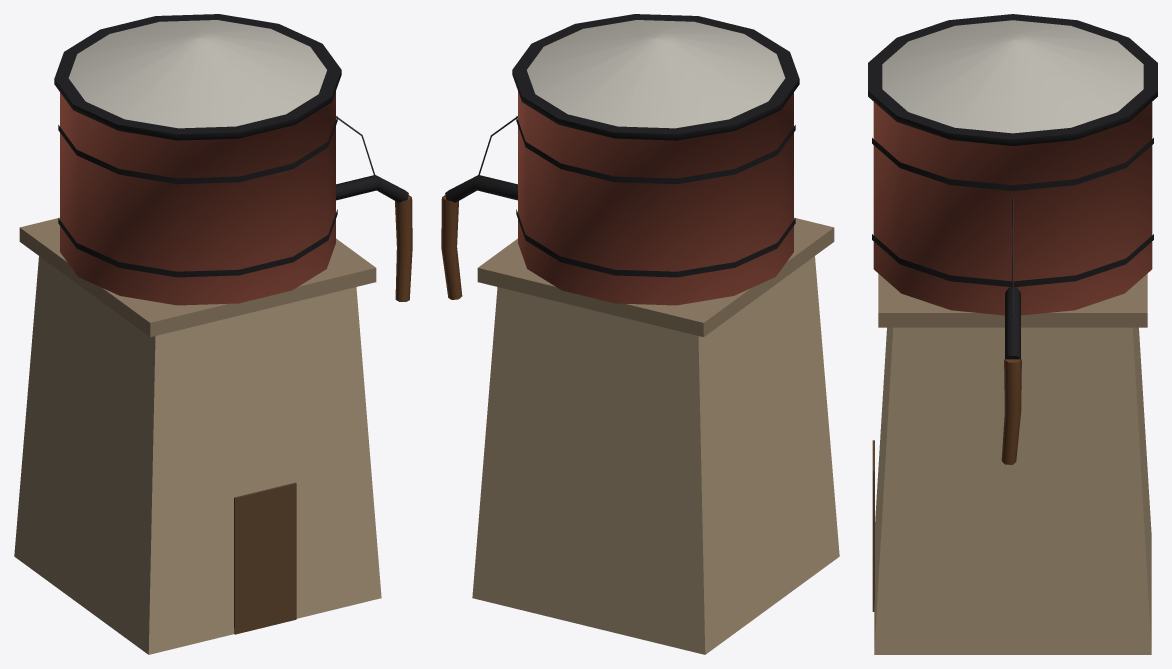
The model's file is water_tower.glb.
The picture shows the model from 3 angles, left to right: view 1: azimuth 30°, elevation 25°; view 2: azimuth 150°, elevation 25°; view 3: azimuth 270°, elevation 25°; orthographic projection. The views are drawn at different scales.
Parts seen in each view (by area): view 1: Body; view 2: Body; view 3: Body.
Boxes of the visible parts, box(x1,y1,x2,y2) form: Body: box(14, 14, 412, 654); Body: box(441, 14, 839, 654); Body: box(868, 14, 1157, 654).
Bounding box in the file's own units: 4.93 × 7.52 × 3.55.
